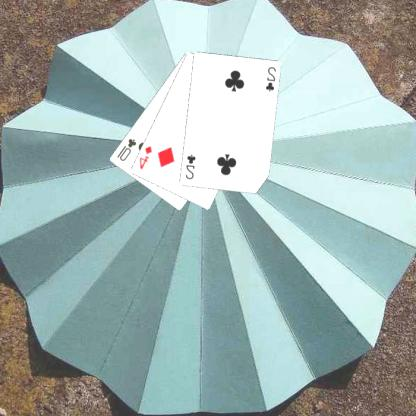10C: (115, 135, 139, 163)
2C: (184, 152, 199, 181), (264, 64, 279, 93)
4D: (138, 143, 155, 171)
